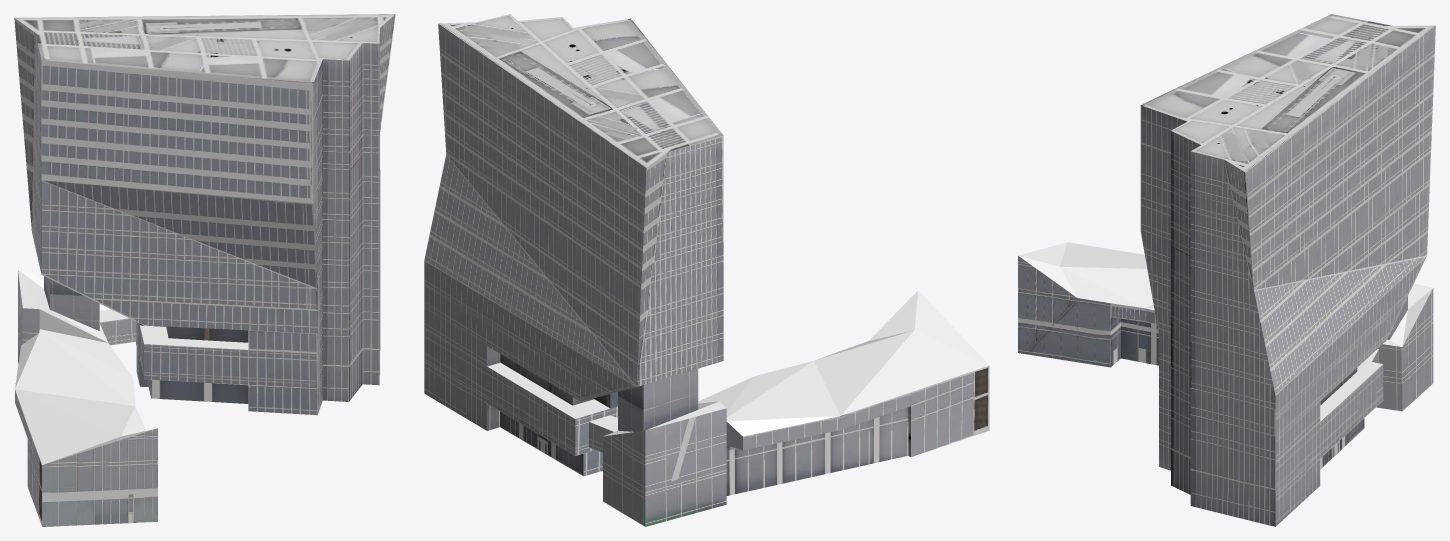
3 renders of one model, left to right at view 1: azimuth 30°, elevation 25°; view 2: azimuth 150°, elevation 25°; view 3: azimuth 270°, elevation 25°, orthographic. The views are drawn at different scales.
Visible parts, largest first — view 1: 401.001; view 2: 401.001; view 3: 401.001.
Part boxes in pixels (x1,y1,x2,y2): 401.001: (14,14,395,526); 401.001: (424,14,989,526); 401.001: (1018,14,1435,526).
Size of the model in its own units: 89.17 by 66.55 by 70.69.
Materials: 1 (1 with a texture image).
